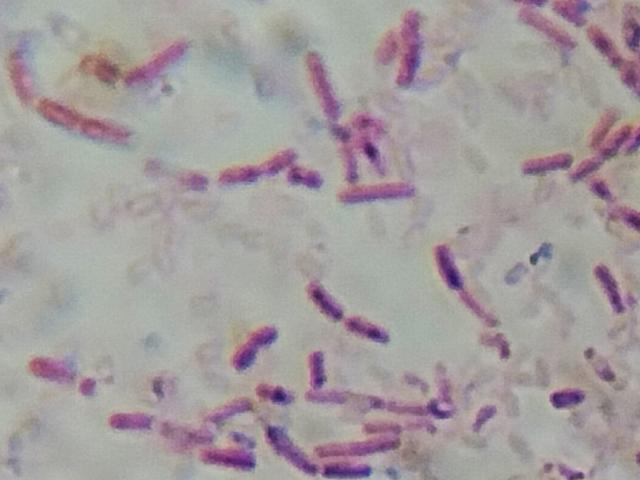E. coli: (434, 239, 508, 329), (308, 387, 458, 419), (38, 100, 133, 149), (35, 351, 103, 396), (225, 154, 296, 188), (229, 322, 280, 367), (318, 435, 401, 460), (273, 426, 312, 477), (397, 11, 425, 80), (304, 274, 341, 318), (342, 184, 416, 205), (312, 52, 339, 109), (108, 406, 156, 435), (348, 310, 390, 343), (194, 444, 244, 469), (215, 396, 255, 421), (326, 460, 374, 480), (339, 130, 356, 179), (305, 348, 328, 383), (290, 164, 320, 190), (264, 384, 298, 401)
